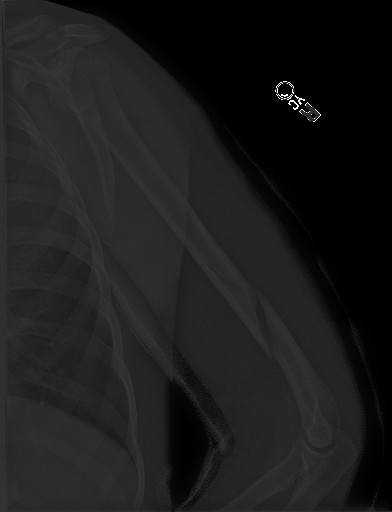fracture: (233, 269, 283, 373)
